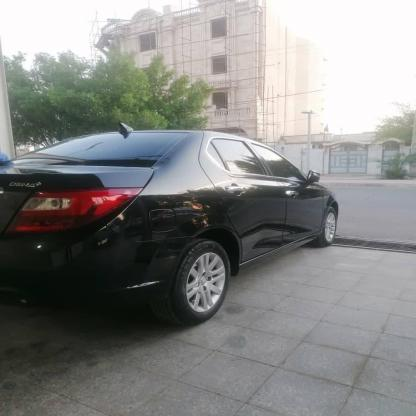Car: (0, 104, 350, 347)
